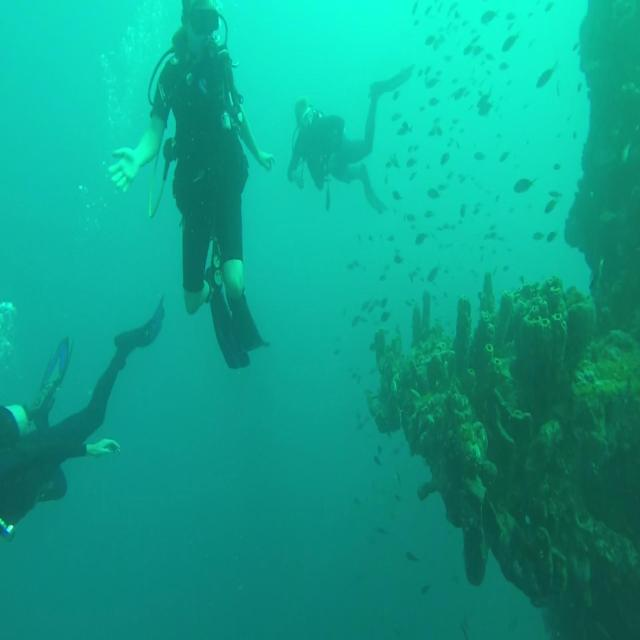human: (107, 0, 275, 369), (0, 292, 165, 540), (286, 61, 416, 215)
